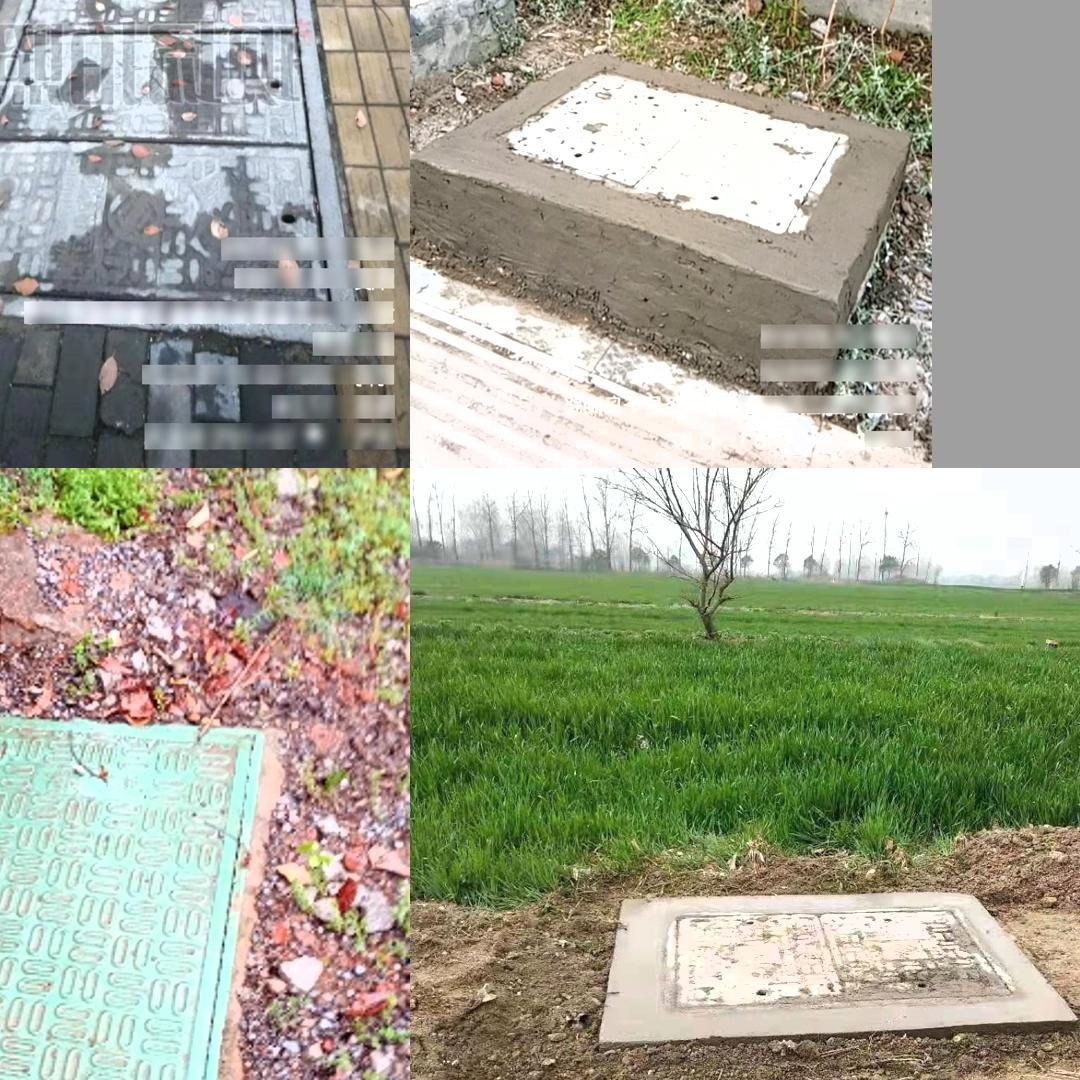good: (0, 0, 360, 337), (0, 710, 266, 1080), (596, 857, 1067, 1042), (491, 70, 851, 233)
